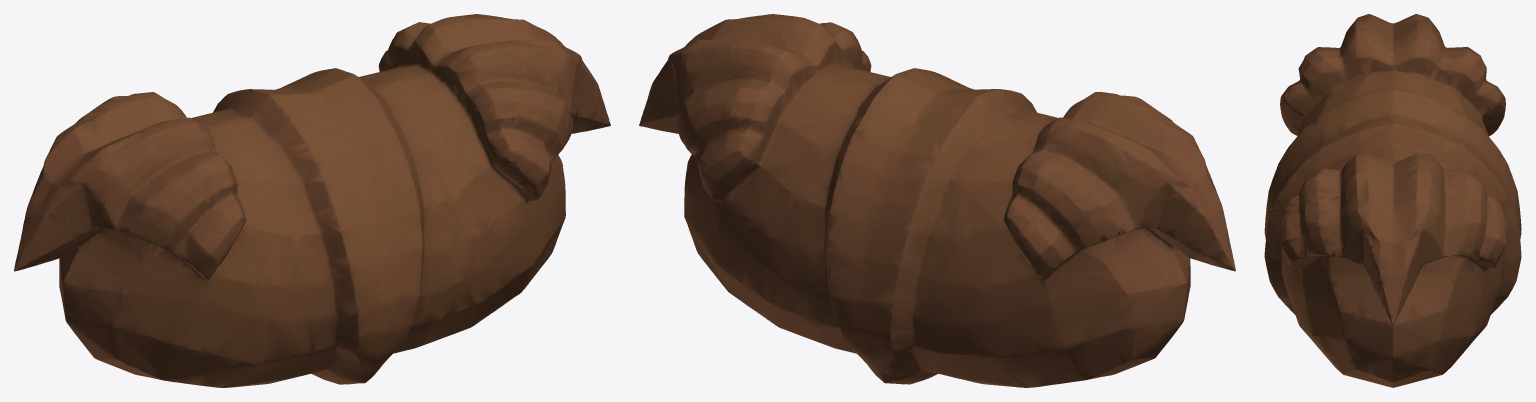
The model's file is pipsSunseed.b9b50324.glb.
3 views of the same model, side by side, from view 1: azimuth 30°, elevation 25°; view 2: azimuth 150°, elevation 25°; view 3: azimuth 270°, elevation 25° (orthographic). The views are drawn at different scales.
Size of the model in its own units: 1.9 by 0.9067 by 0.8383.
Materials: 1 (1 with a texture image).
